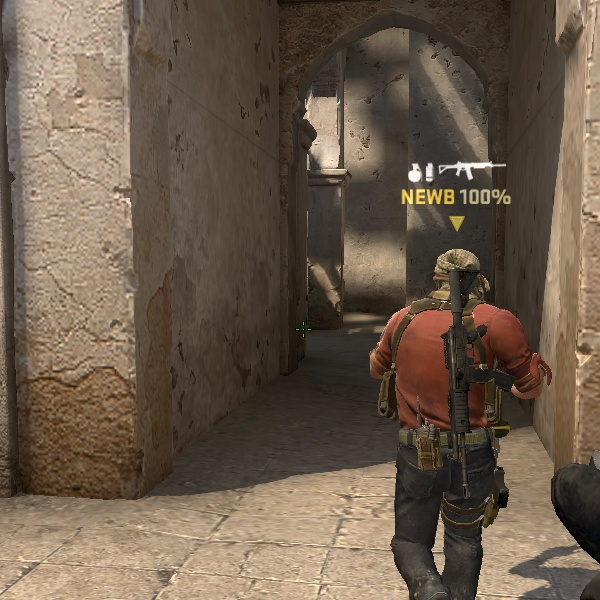t_body: (351, 243, 562, 600)
t_head: (418, 244, 496, 322)
